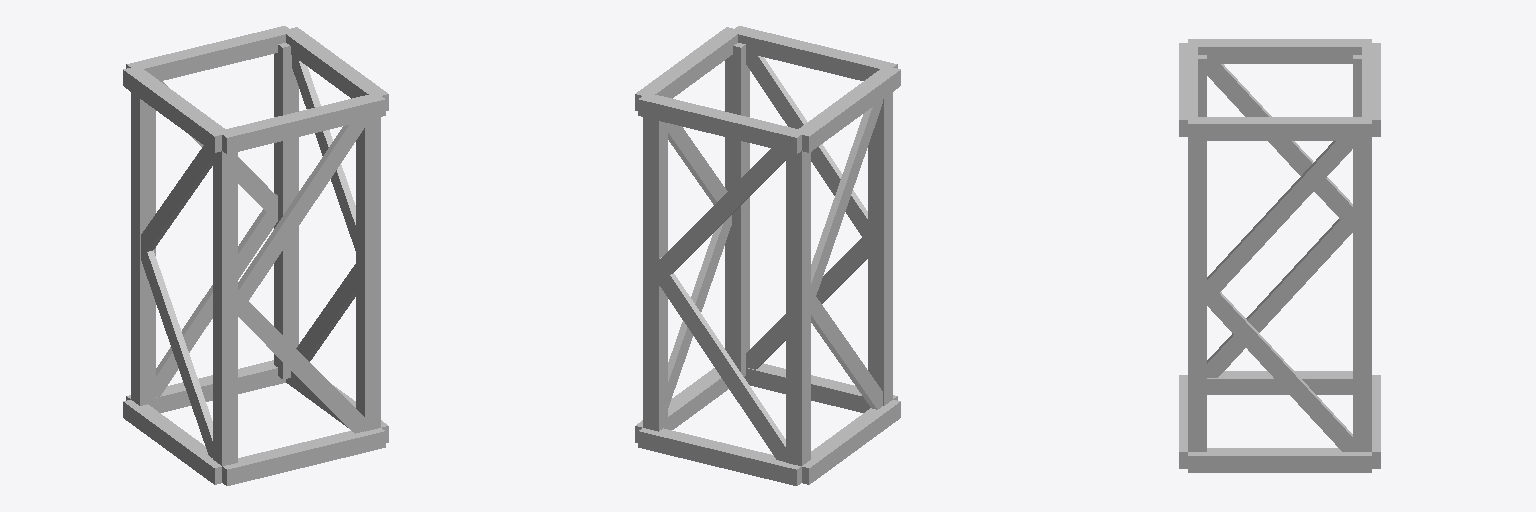
Rendered from truss_large.obj.
3 renders of one model, left to right at view 1: azimuth 30°, elevation 25°; view 2: azimuth 150°, elevation 25°; view 3: azimuth 270°, elevation 25°, orthographic.
Parts seen in each view (by area): view 1: Cube1; view 2: Cube1; view 3: Cube1.
Part boxes in pixels (left/top/right/bottom): Cube1: left=123, top=26, right=388, bottom=485; Cube1: left=635, top=26, right=900, bottom=485; Cube1: left=1179, top=39, right=1380, bottom=472.
Size of the model in its own units: 3.3 by 6.3 by 3.3.